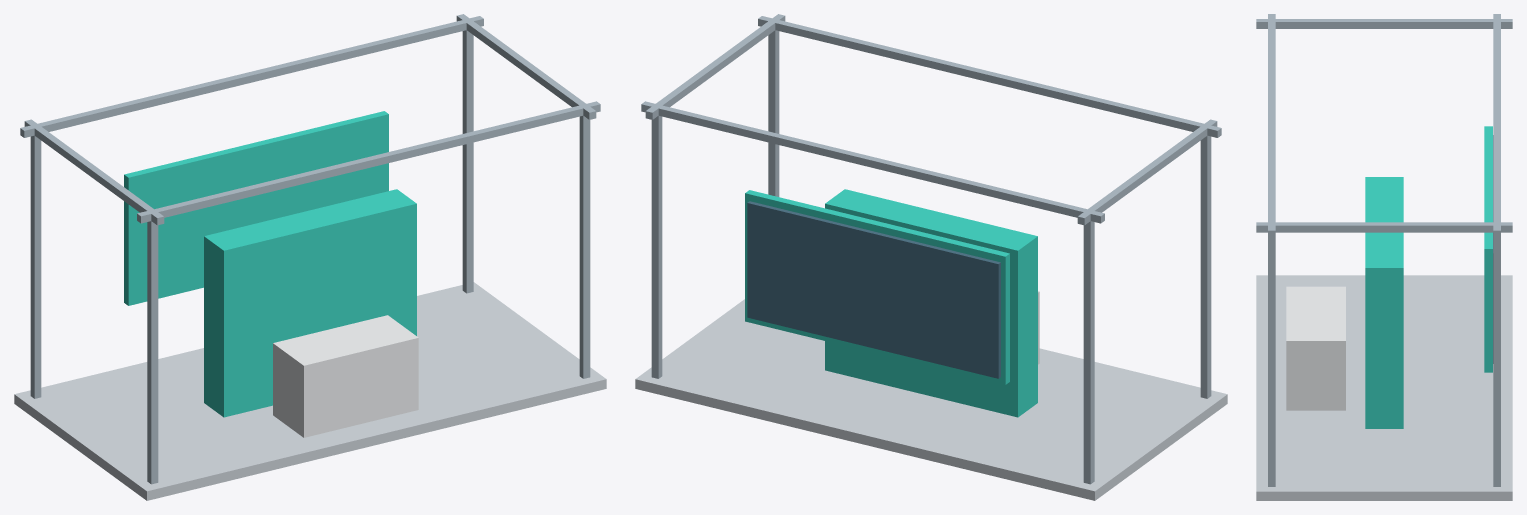
3 renders of one model, left to right at view 1: azimuth 30°, elevation 25°; view 2: azimuth 150°, elevation 25°; view 3: azimuth 270°, elevation 25°, orthographic. The views are drawn at different scales.
Visible parts, largest first — view 1: Exhibition Booth Concept; view 2: Exhibition Booth Concept; view 3: Exhibition Booth Concept.
Part boxes in pixels (left/top/right/bottom): Exhibition Booth Concept: left=14, top=14, right=606, bottom=500; Exhibition Booth Concept: left=635, top=14, right=1227, bottom=500; Exhibition Booth Concept: left=1256, top=14, right=1512, bottom=500.
Size of the model in its own units: 6 by 3.49 by 3.
